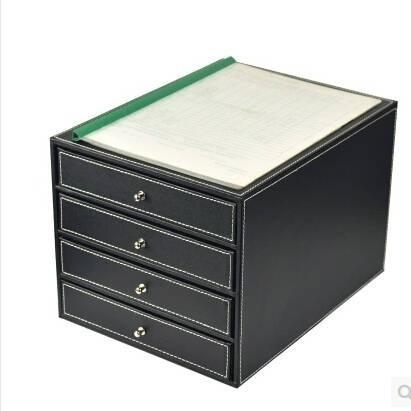cabinet_door: (59, 164, 231, 214), (67, 261, 231, 311), (71, 308, 231, 358), (61, 223, 229, 266)
handle: (129, 235, 149, 255), (130, 324, 148, 344), (132, 280, 149, 300), (130, 188, 148, 205)
